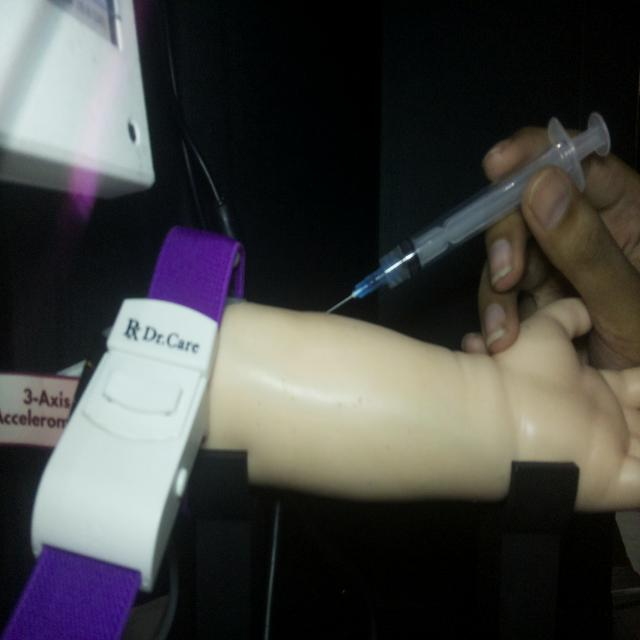27 degrees: (324, 108, 612, 316)
